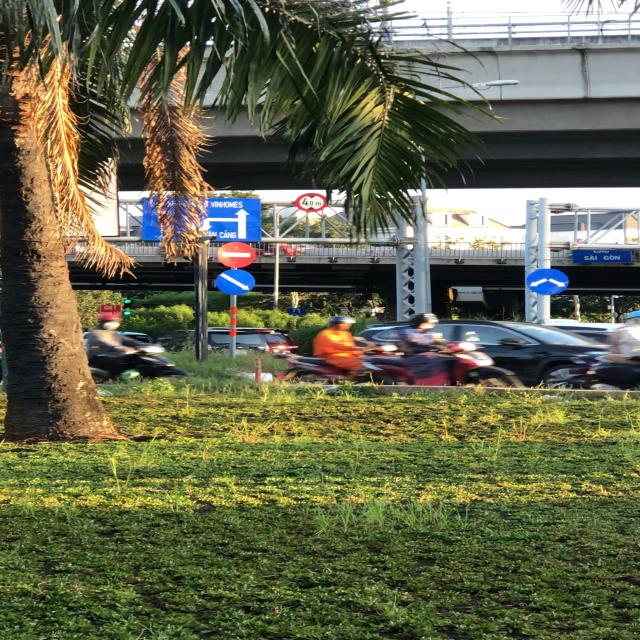Bien bao cam di nguoc chieu: (212, 240, 260, 268)
Bien bao han che chieu cao: (296, 190, 331, 213)
Bien bao huong phai di vong chuong ngai vat: (522, 266, 574, 298), (214, 267, 264, 296)
